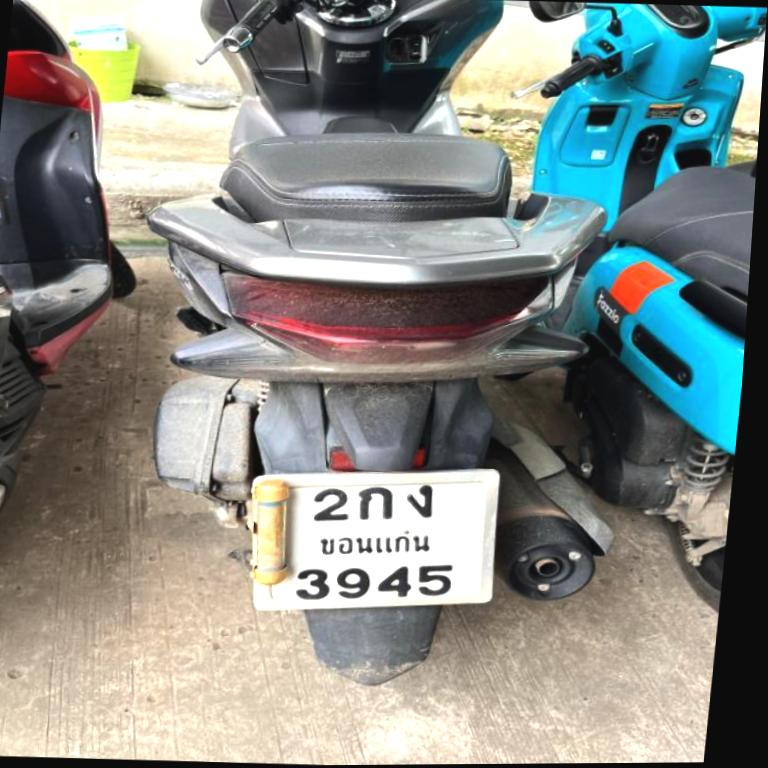license plate: (254, 470, 498, 608)
